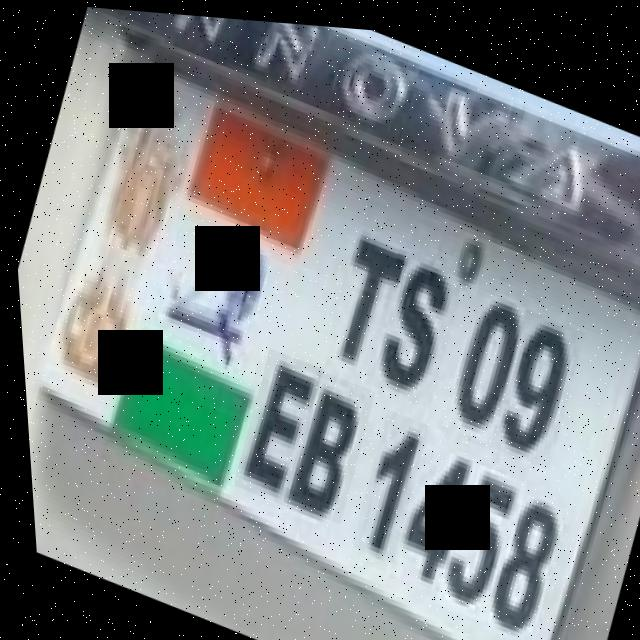0: (437, 281, 530, 432)
1: (345, 408, 422, 554)
4: (383, 428, 477, 587)
5: (430, 458, 519, 613)
8: (476, 487, 561, 638)
9: (486, 305, 580, 457)
B: (279, 369, 366, 517)
E: (229, 348, 318, 499)
S: (364, 249, 460, 398)
T: (313, 223, 411, 369)
